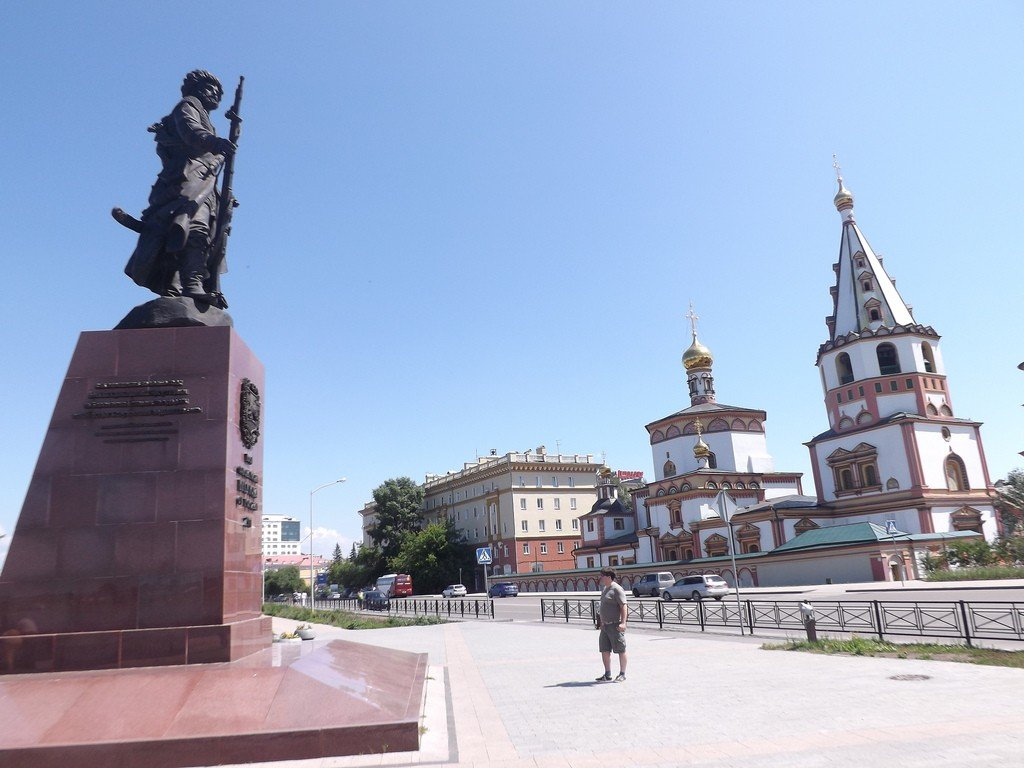sign: (473, 545, 495, 565), (883, 517, 899, 538)
